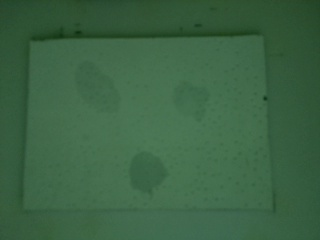Water_detected: (79, 73, 116, 111), (127, 156, 165, 192), (180, 83, 212, 113)
